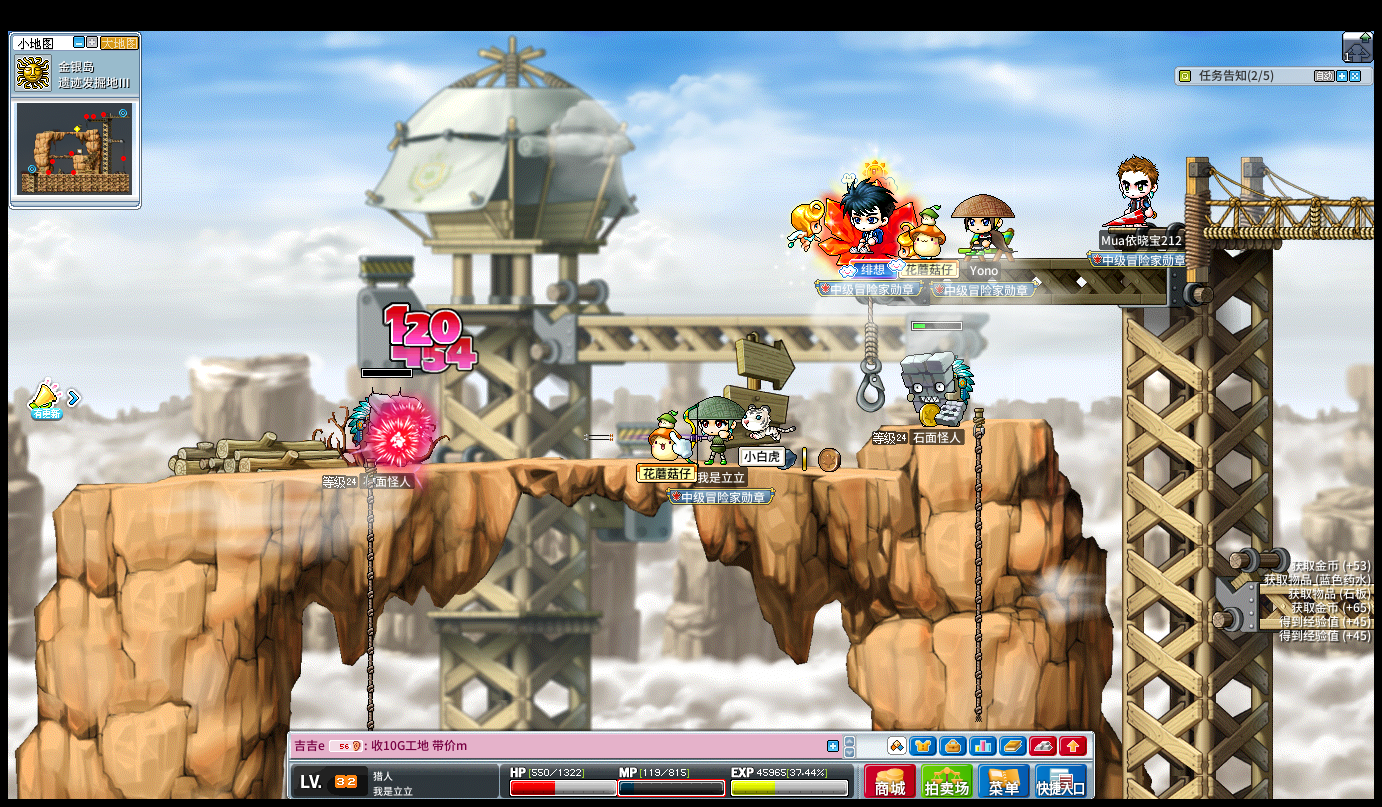floor: (76, 455, 942, 478), (878, 414, 1049, 430), (1258, 581, 1373, 593)
monster: (346, 392, 426, 465), (900, 351, 974, 425)
rope: (970, 408, 985, 713), (361, 452, 375, 763), (364, 454, 375, 722), (970, 613, 983, 717)
